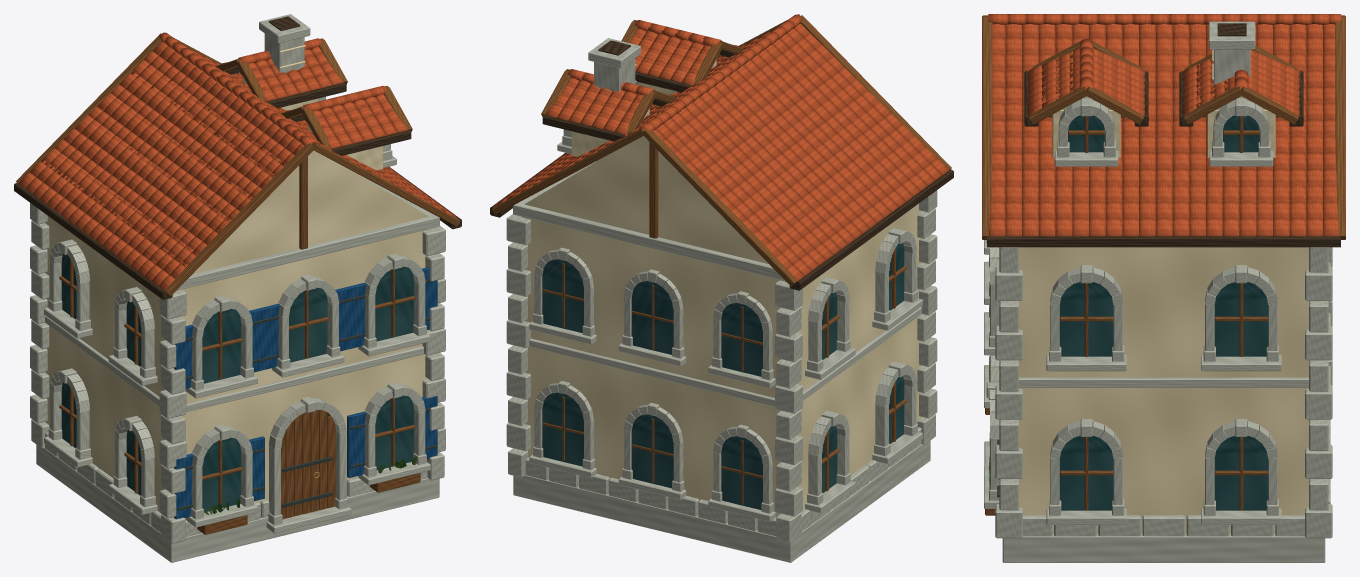
File: townhouse_a.glb
3 renders of one model, left to right at view 1: azimuth 30°, elevation 25°; view 2: azimuth 150°, elevation 25°; view 3: azimuth 270°, elevation 25°, orthographic. The views are drawn at different scales.
Visible parts, largest first — view 1: townhouse_a_Structure, townhouse_a_Roof, townhouse_a_Detail, townhouse_a_Joinery, townhouse_a_Glazing, townhouse_a_Metalwork; view 2: townhouse_a_Structure, townhouse_a_Roof, townhouse_a_Detail, townhouse_a_Glazing, townhouse_a_Joinery; view 3: townhouse_a_Structure, townhouse_a_Roof, townhouse_a_Detail, townhouse_a_Joinery, townhouse_a_Glazing.
Part boxes in pixels (x1,y1,x2,y2): townhouse_a_Structure: (30,14,445,562); townhouse_a_Roof: (18,32,457,290); townhouse_a_Detail: (44,96,430,533); townhouse_a_Joinery: (14,33,461,534); townhouse_a_Glazing: (61,254,414,511); townhouse_a_Metalwork: (177,279,437,510); townhouse_a_Structure: (506,38,937,562); townhouse_a_Roof: (494,14,949,281); townhouse_a_Detail: (529,82,922,521); townhouse_a_Glazing: (542,243,904,509); townhouse_a_Joinery: (490,14,953,504); townhouse_a_Structure: (995,21,1332,562); townhouse_a_Roof: (988,14,1341,236); townhouse_a_Detail: (984,98,1330,524); townhouse_a_Joinery: (982,15,1345,515); townhouse_a_Glazing: (1059,115,1268,510).
Size of the model in its own units: 6.94 by 9.27 by 6.11.
4 materials, 4 textured.
